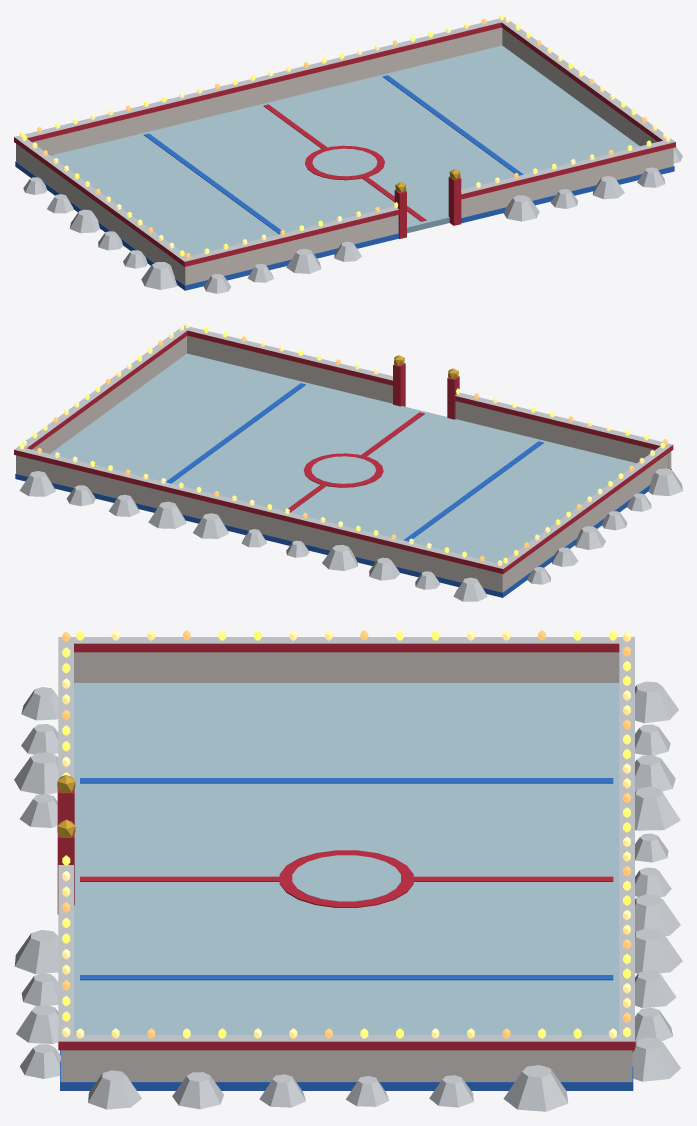
File: IceRink.glb
The picture shows the model from 3 angles, top to bottom: view 1: azimuth 30°, elevation 25°; view 2: azimuth 150°, elevation 25°; view 3: azimuth 270°, elevation 25°; orthographic projection. The views are drawn at different scales.
Visible parts, largest first — view 1: IceRink_Ice, IceRink_Boards, IceRink_Lights; view 2: IceRink_Ice, IceRink_Boards, IceRink_Lights; view 3: IceRink_Ice, IceRink_Boards, IceRink_Lights.
Boxes of the visible parts, x1,y1,x2,y2 form: IceRink_Ice: (51,45,639,255); IceRink_Boards: (14,17,682,293); IceRink_Lights: (19,14,670,258); IceRink_Ice: (50,353,636,562); IceRink_Boards: (14,325,682,601); IceRink_Lights: (19,322,667,565); IceRink_Ice: (74,683,619,1034); IceRink_Boards: (14,637,682,1111); IceRink_Lights: (62,630,630,1038).
Size of the model in its own units: 49.74 by 4.82 by 31.61.
